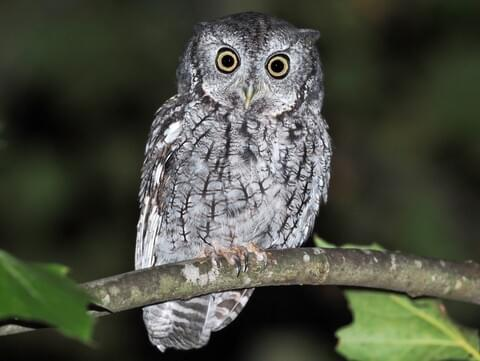owl: (131, 10, 334, 344)
